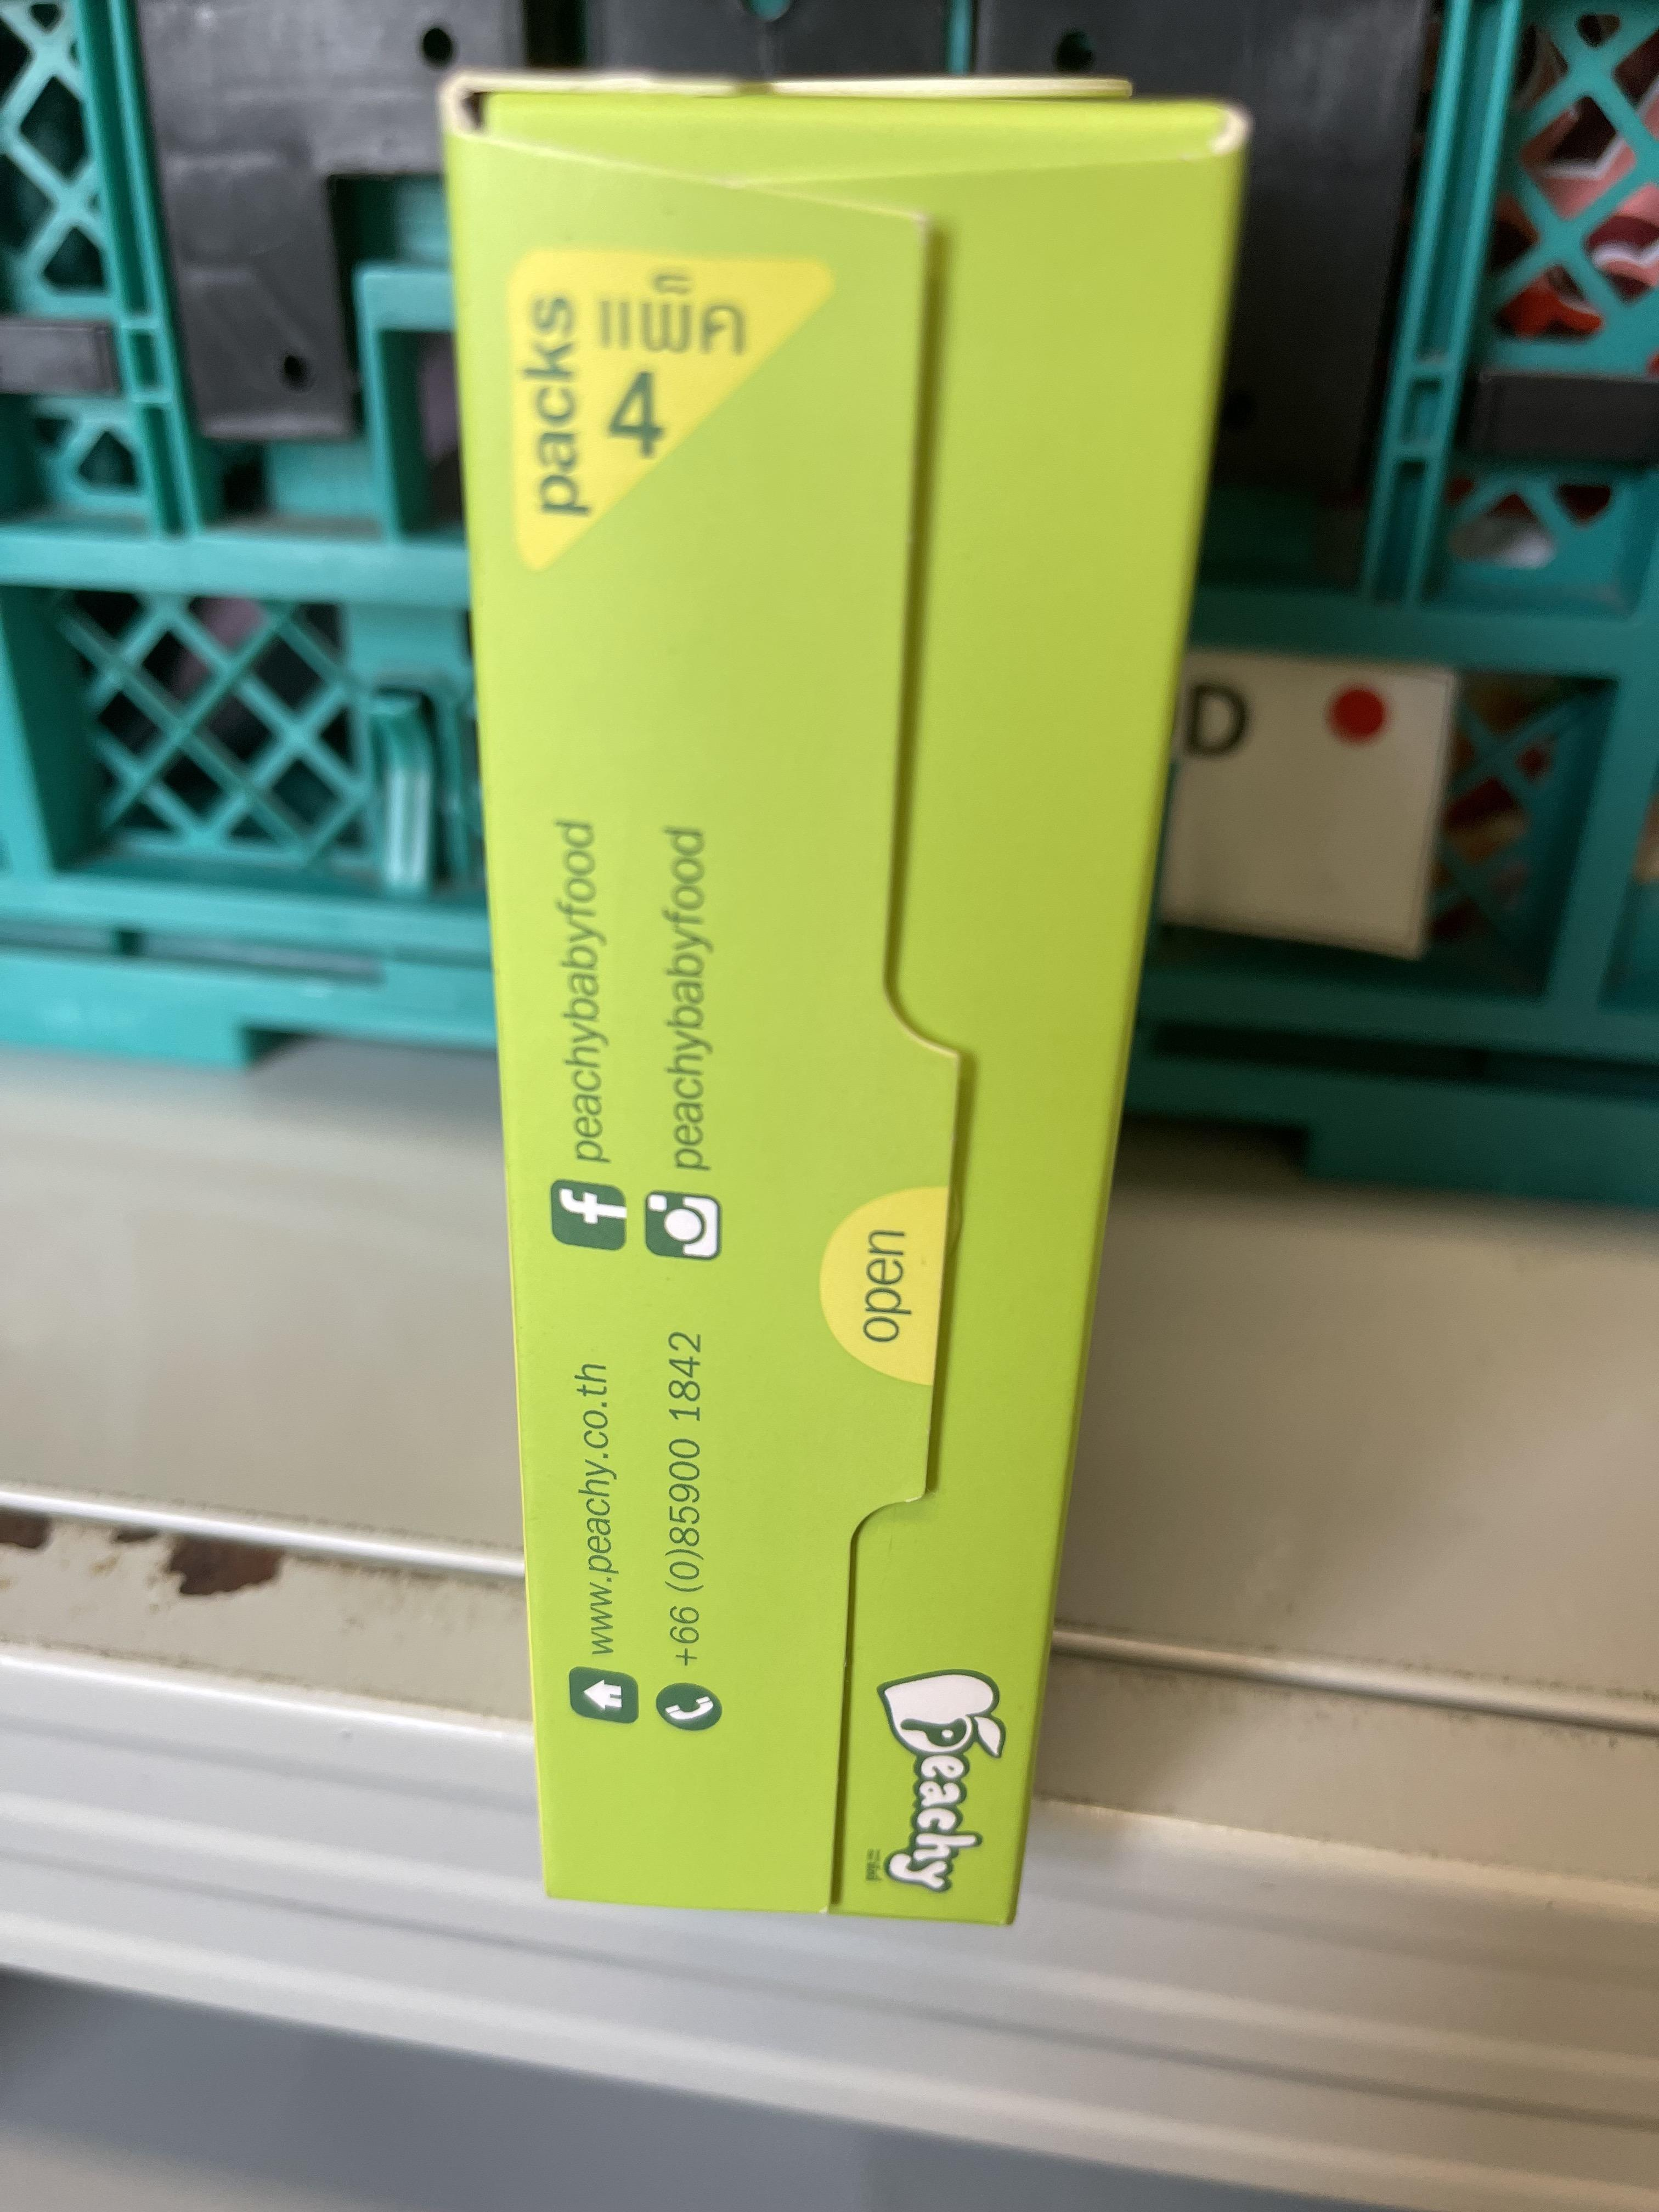object_name: (429, 61, 1201, 1958)
